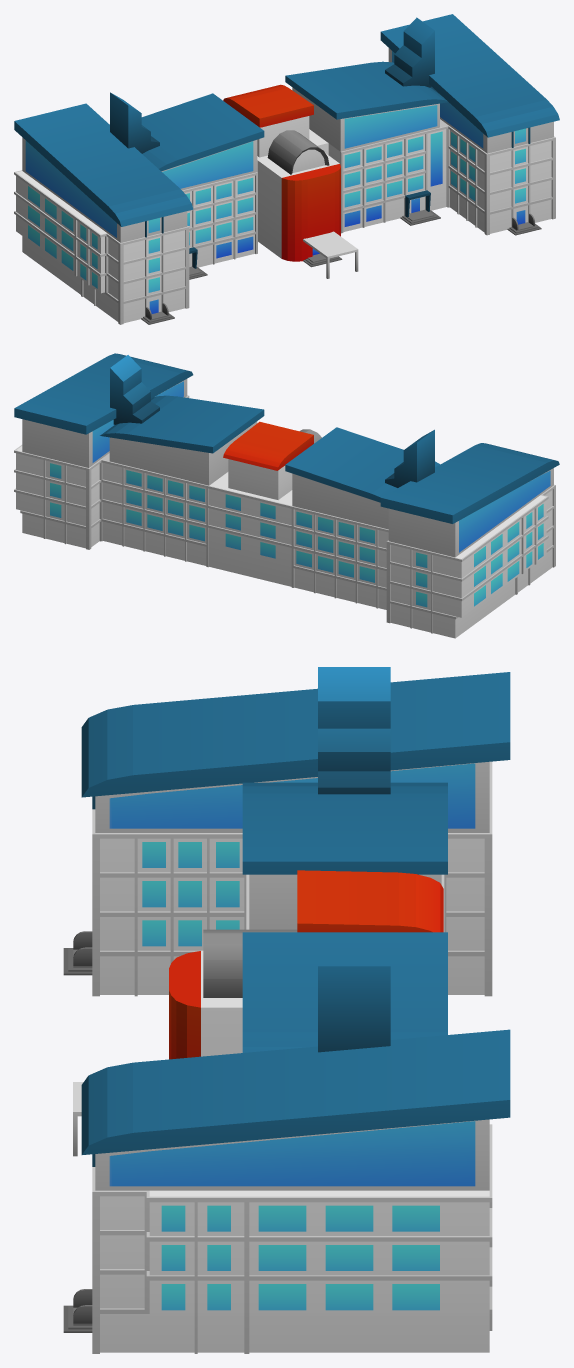
The model's file is Gedung feboplibfkb.fbx.
3 renders of one model, top to bottom at view 1: azimuth 30°, elevation 25°; view 2: azimuth 150°, elevation 25°; view 3: azimuth 270°, elevation 25°, orthographic. The views are drawn at different scales.
Visible parts, largest first — view 1: Plane.014; view 2: Plane.014; view 3: Plane.014.
Part boxes in pixels (left/top/right/bottom): Plane.014: left=14, top=14, right=559, bottom=324; Plane.014: left=14, top=353, right=559, bottom=638; Plane.014: left=63, top=667, right=510, bottom=1353.
Bounding box in the file's own units: 10760 × 3725 × 4647.
1 material, 1 textured.
